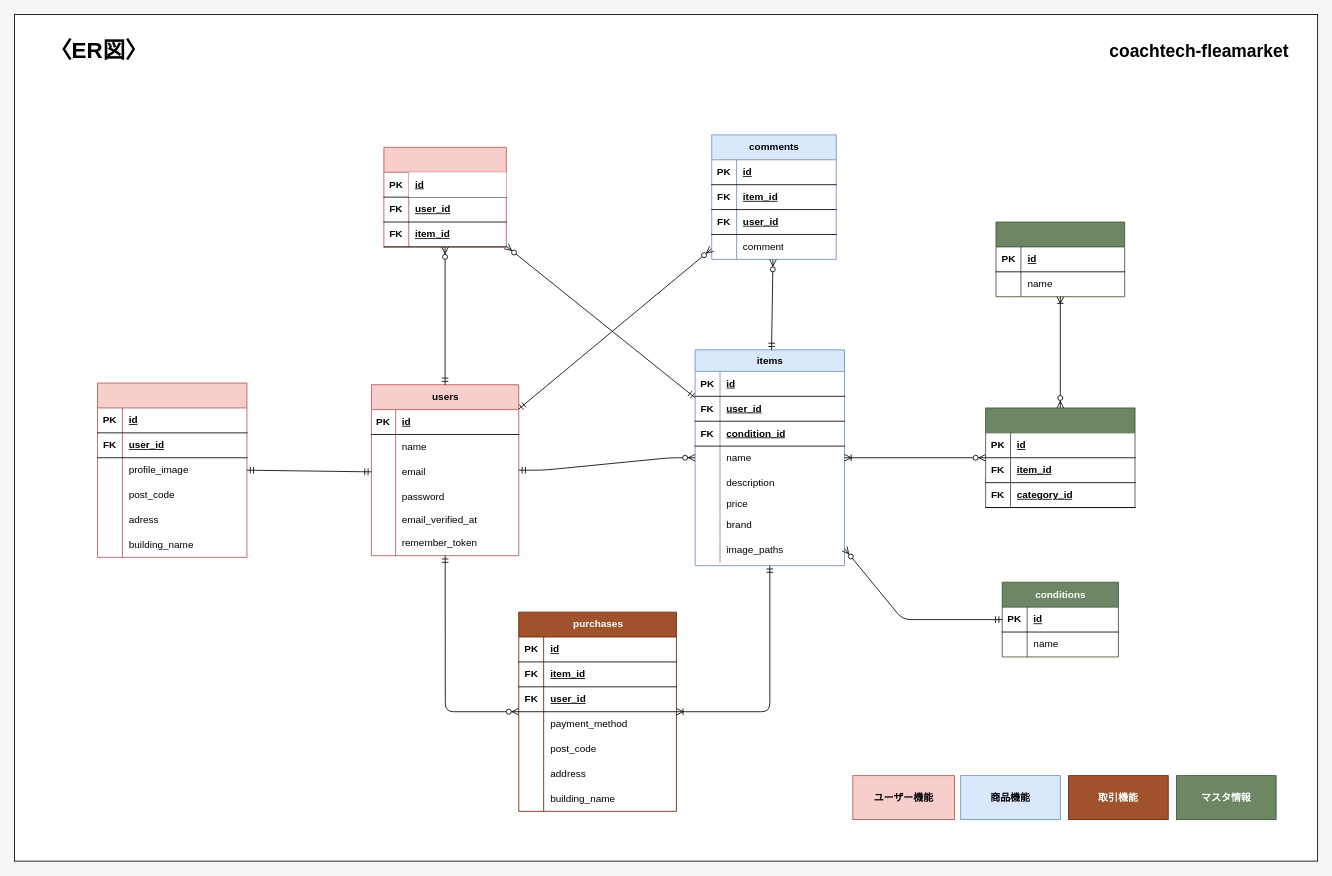
The diagram is 1332 pixels wide and 876 high, and some of its shapes have lost their labels. The box of each missing label's shape, as (x1, y1, x2, y2) in pixels:
categories: (995, 221, 1125, 297)
category_items: (985, 407, 1135, 508)
favorites: (383, 146, 506, 247)
profiles: (97, 382, 247, 557)
